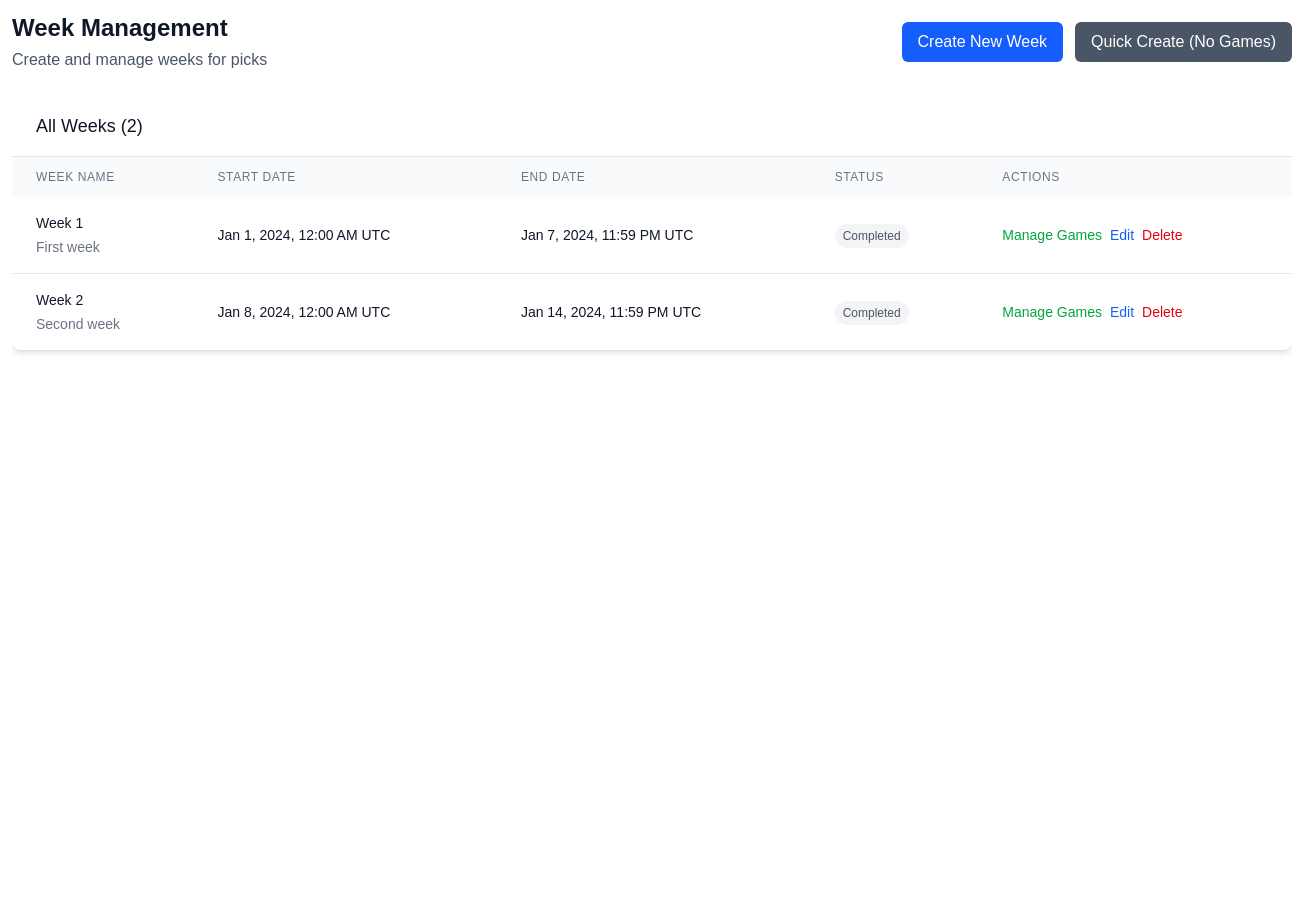
WeekManagement › should show edit form when edit button is clicked
This screenshot has width=1304, height=912.
Click the button "Edit" in the row of "Week 1": (1122, 235) x1=1110 y1=225 x2=1134 y2=245
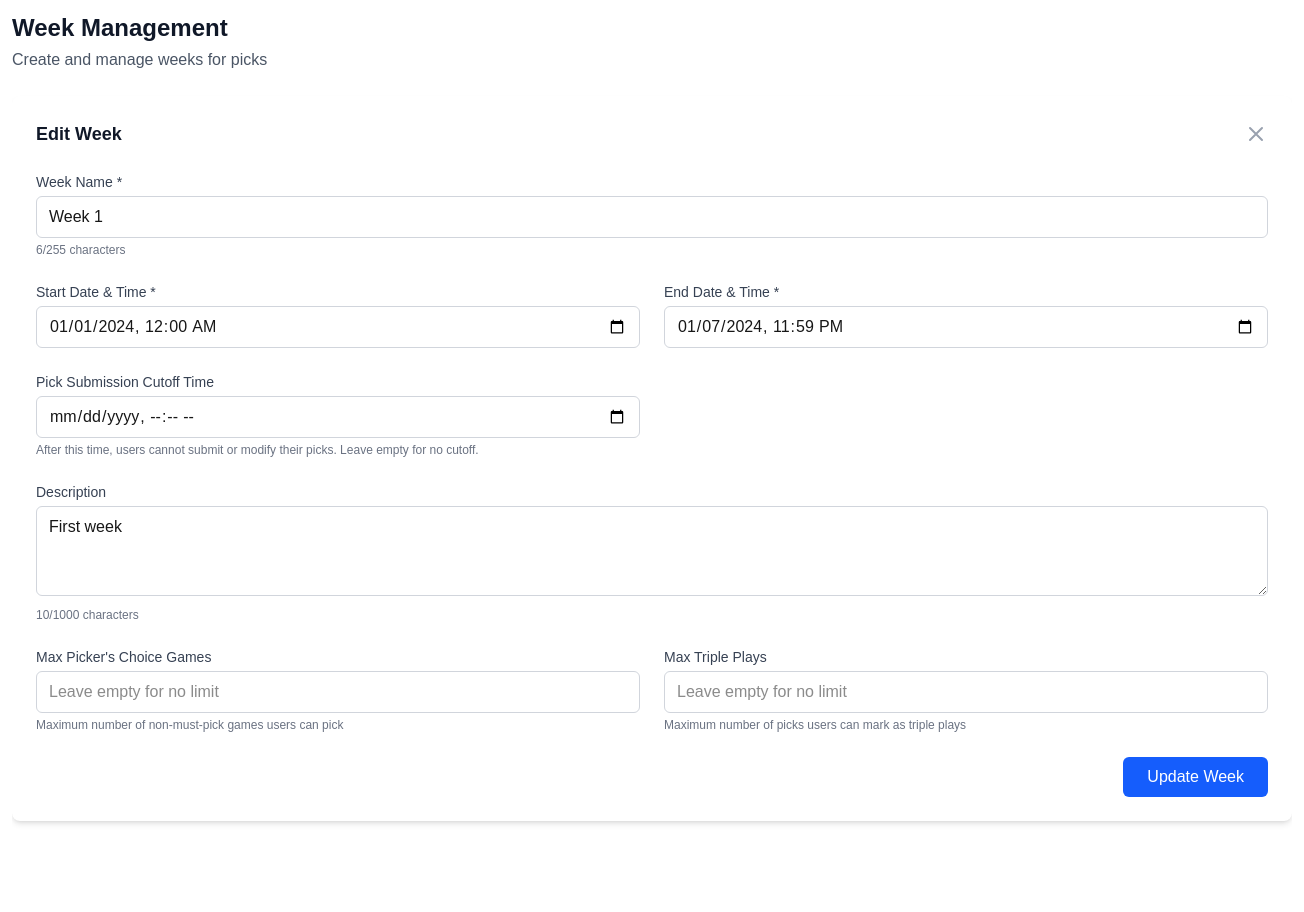
Result: the form with test id "week-form" is shown
Result: the heading "Edit Week" is shown at x1=36 y1=120 x2=122 y2=148
Result: the button "Update Week" is shown at x1=1123 y1=757 x2=1268 y2=797
